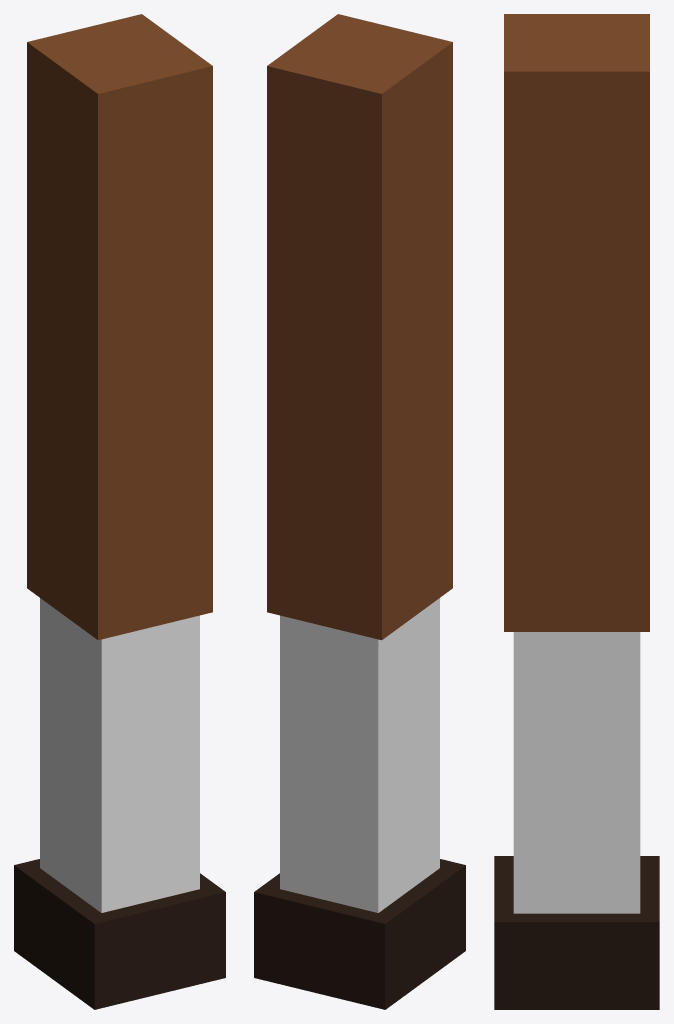
The model's file is carreta_leg_overo.obj.
3 renders of one model, left to right at view 1: azimuth 30°, elevation 25°; view 2: azimuth 150°, elevation 25°; view 3: azimuth 270°, elevation 25°, orthographic. The views are drawn at different scales.
Parts seen in each view (by area): view 1: carreta_leg_overo; view 2: carreta_leg_overo; view 3: carreta_leg_overo.
Part boxes in pixels (x1=…): carreta_leg_overo: x1=14, y1=14, x2=225, y2=1009; carreta_leg_overo: x1=254, y1=14, x2=465, y2=1009; carreta_leg_overo: x1=494, y1=14, x2=659, y2=1009.
Size of the model in its own units: 0.16 by 1.06 by 0.17.
